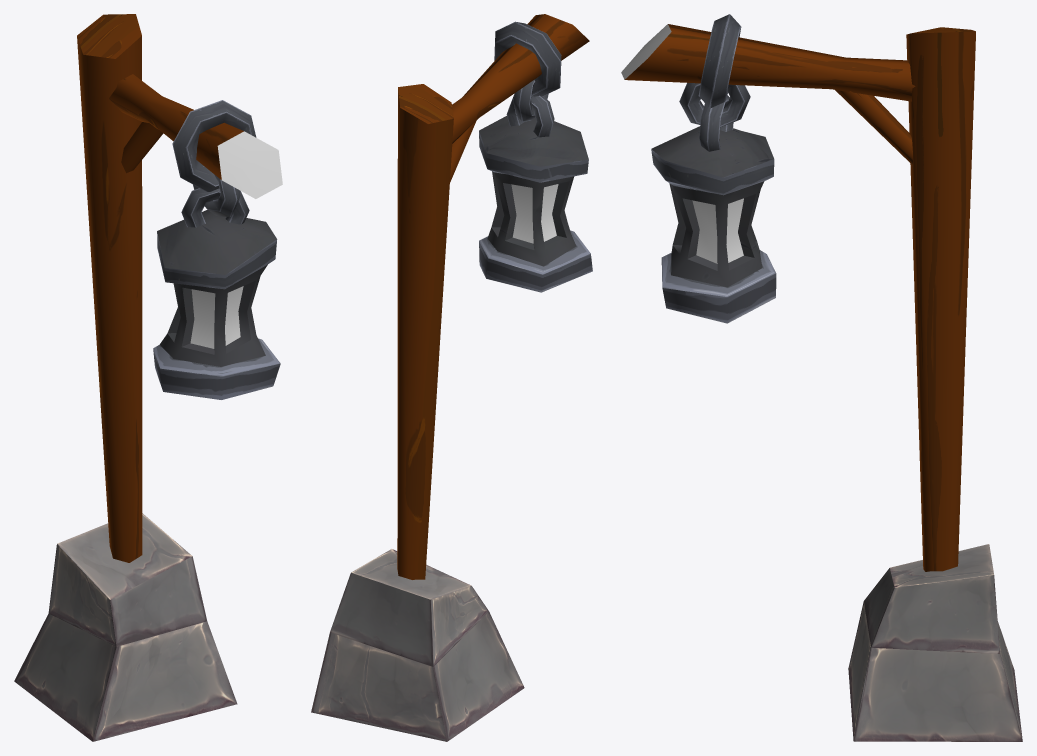
File: SM_PROP_streetlamp_v01_03.fbx
The picture shows the model from 3 angles, left to right: view 1: azimuth 30°, elevation 25°; view 2: azimuth 150°, elevation 25°; view 3: azimuth 270°, elevation 25°; orthographic projection. The views are drawn at different scales.
Parts seen in each view (by area): view 1: SM_PROP_streetlamp_v01_03; view 2: SM_PROP_streetlamp_v01_03; view 3: SM_PROP_streetlamp_v01_03.
Part boxes in pixels (x1,y1,x2,y2): SM_PROP_streetlamp_v01_03: (14, 14, 282, 741); SM_PROP_streetlamp_v01_03: (311, 14, 592, 741); SM_PROP_streetlamp_v01_03: (621, 14, 1022, 741).
Bounding box in the file's own units: 87.83 × 374 × 200.
